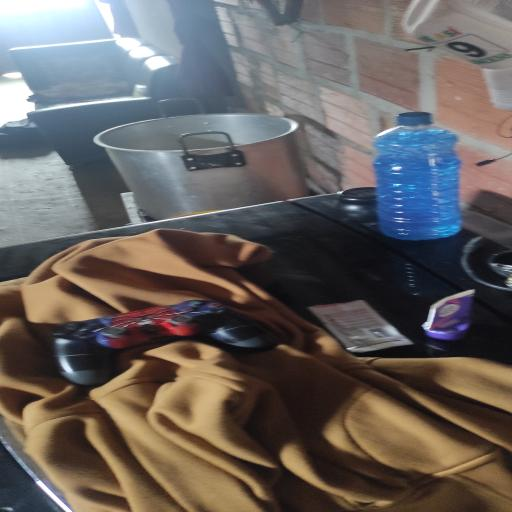ControlPlay4: (53, 299, 278, 386)
